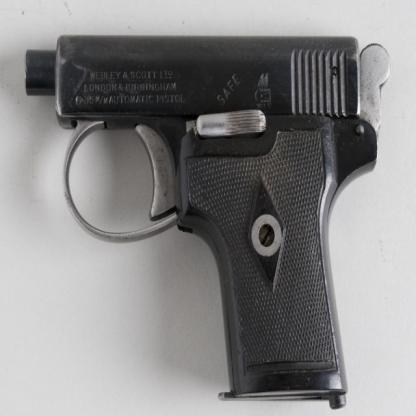weapon: (22, 31, 393, 410)
